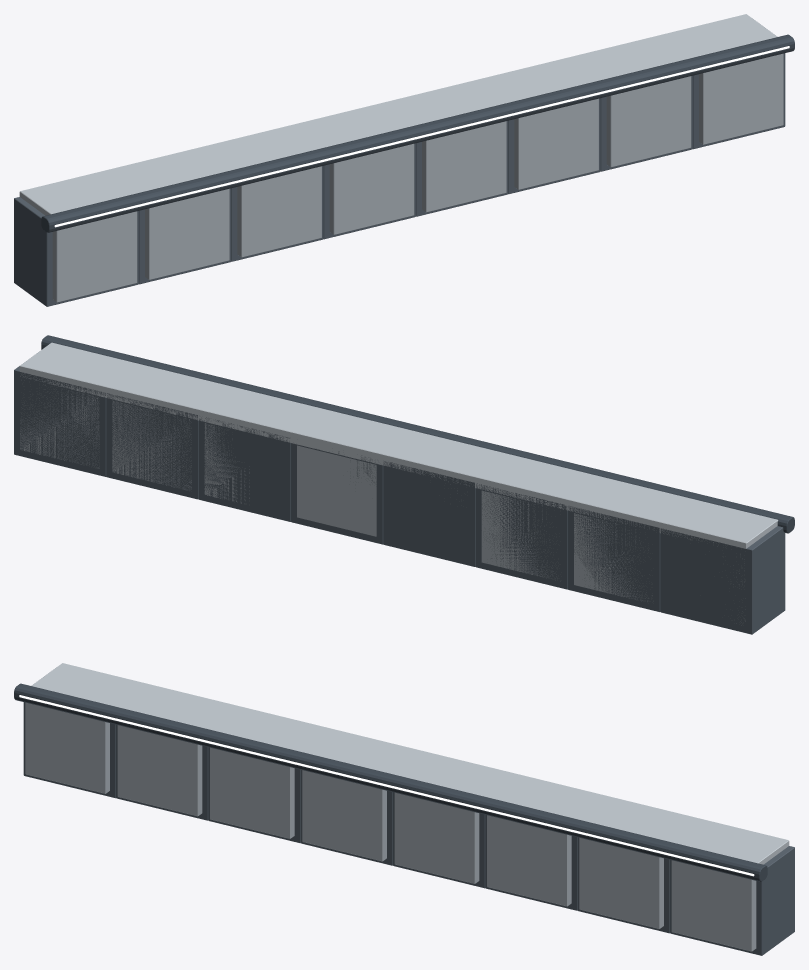
File: Terrain_TopRun8LR.gltf
The picture shows the model from 3 angles, top to bottom: view 1: azimuth 30°, elevation 25°; view 2: azimuth 150°, elevation 25°; view 3: azimuth 330°, elevation 25°; orthographic projection.
Parts seen in each view (by area): view 1: Terrain_TopRun8LR_baked; view 2: Terrain_TopRun8LR_baked; view 3: Terrain_TopRun8LR_baked.
Boxes of the visible parts, x1,y1,x2,y2 form: Terrain_TopRun8LR_baked: [14, 14, 794, 306]; Terrain_TopRun8LR_baked: [14, 335, 794, 634]; Terrain_TopRun8LR_baked: [14, 663, 794, 955].
Bounding box in the file's own units: 8.08 × 0.9495 × 0.74.
